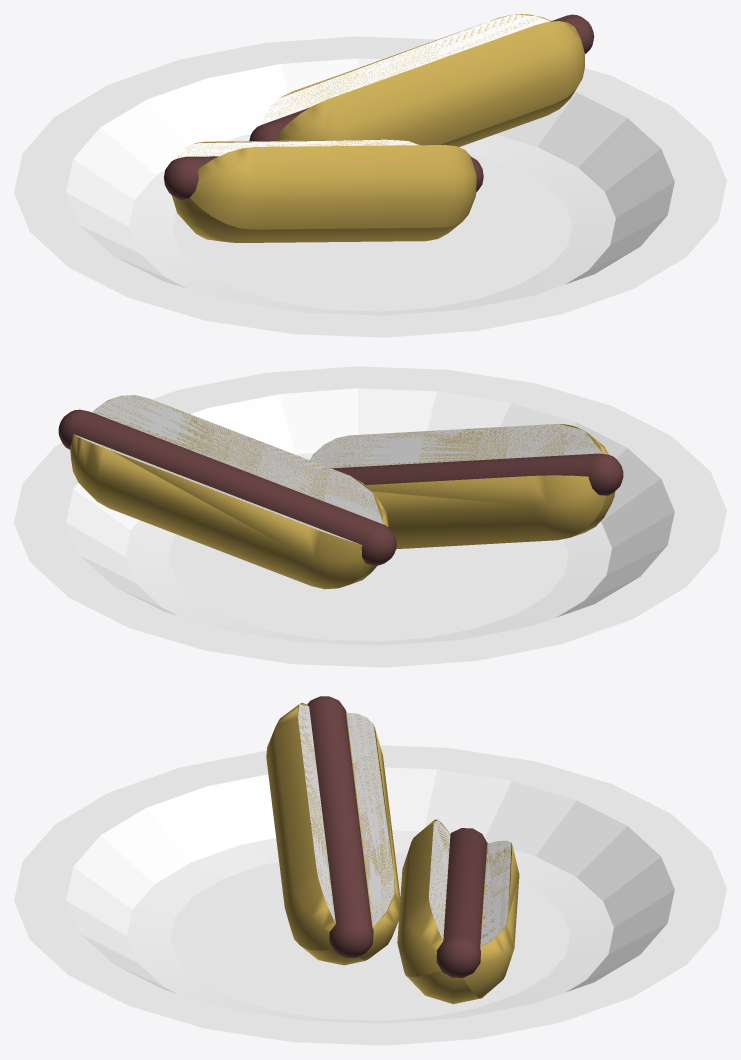
Rendered from plate_hotdogs.dae.
3 views of the same model, one above another, from view 1: azimuth 30°, elevation 25°; view 2: azimuth 150°, elevation 25°; view 3: azimuth 270°, elevation 25° (orthographic).
Parts seen in each view (by area): view 1: hotdog-and-plate (×2), capsule (×4), group_0 (×2); view 2: hotdog-and-plate (×2), capsule (×5), group_0 (×2); view 3: hotdog-and-plate (×2), capsule (×6), group_0 (×2).
Part boxes in pixels (bbox=[...]): hotdog-and-plate (×2): bbox=[14, 36, 726, 337]; capsule (×4): bbox=[171, 14, 584, 242]; group_0 (×2): bbox=[164, 14, 594, 200]; hotdog-and-plate (×2): bbox=[14, 366, 726, 667]; capsule (×5): bbox=[70, 395, 615, 589]; group_0 (×2): bbox=[58, 409, 623, 565]; hotdog-and-plate (×2): bbox=[14, 745, 726, 1045]; capsule (×6): bbox=[266, 702, 519, 1004]; group_0 (×2): bbox=[307, 696, 487, 977].
Bounding box in the file's own units: 1982 × 1982 × 471.
